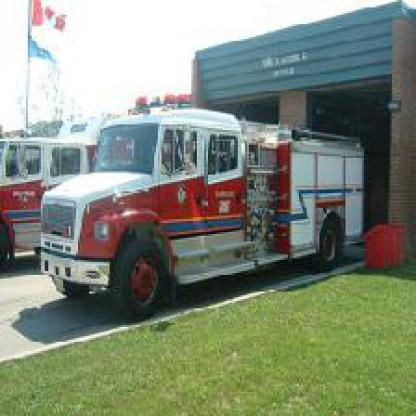emergency: (39, 102, 362, 286)
